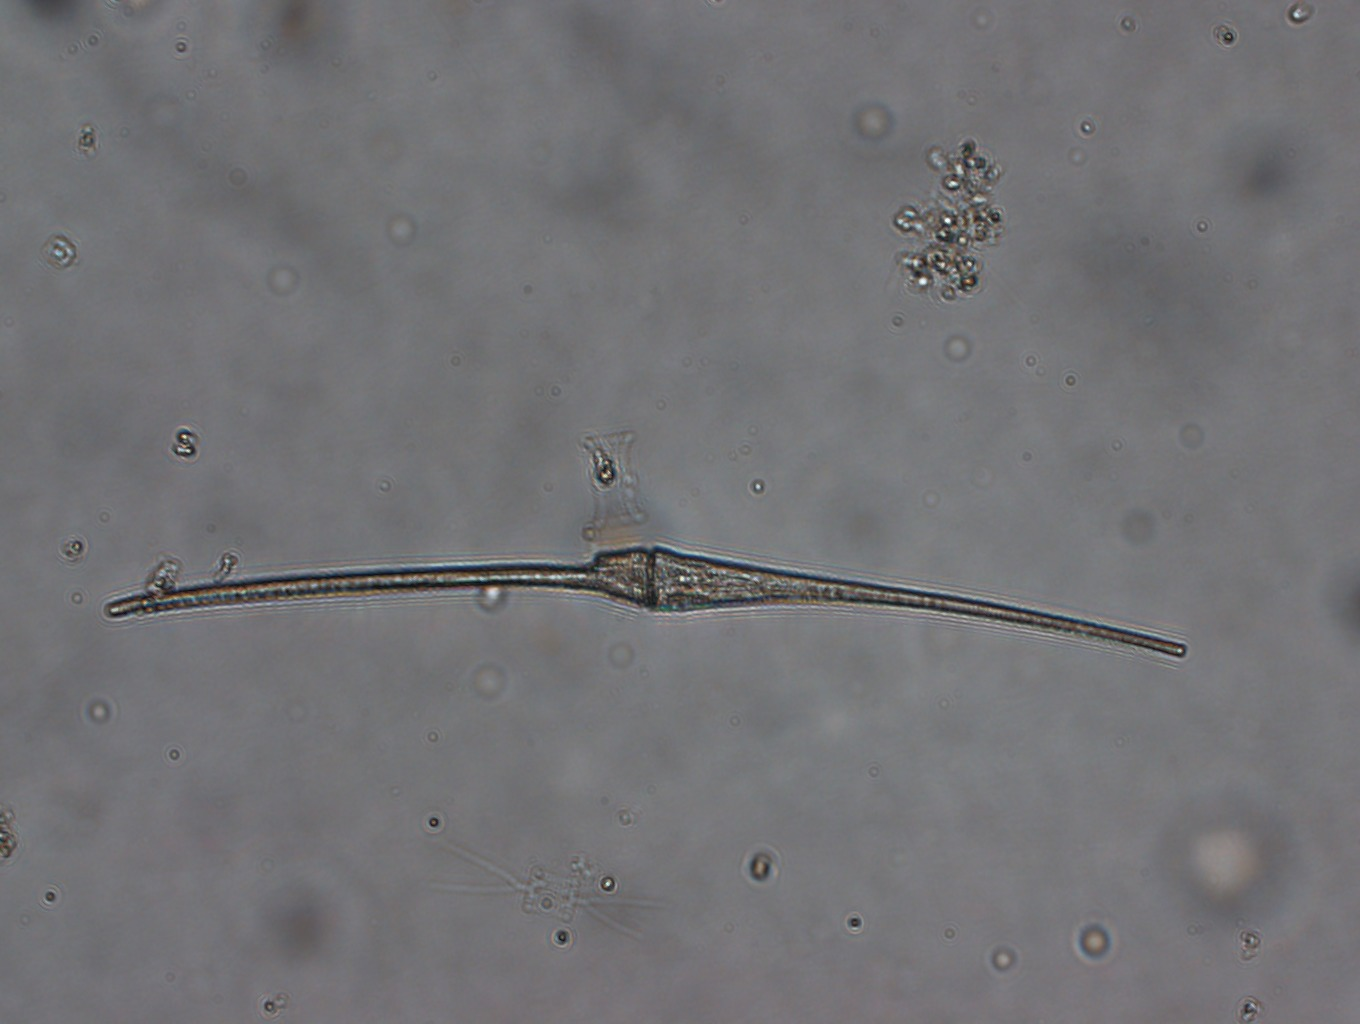ceratium fusus: (106, 544, 1190, 659)
